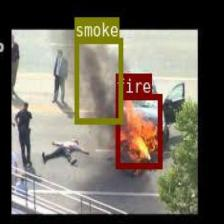fire: (115, 93, 161, 168)
smoke: (74, 37, 122, 123)
